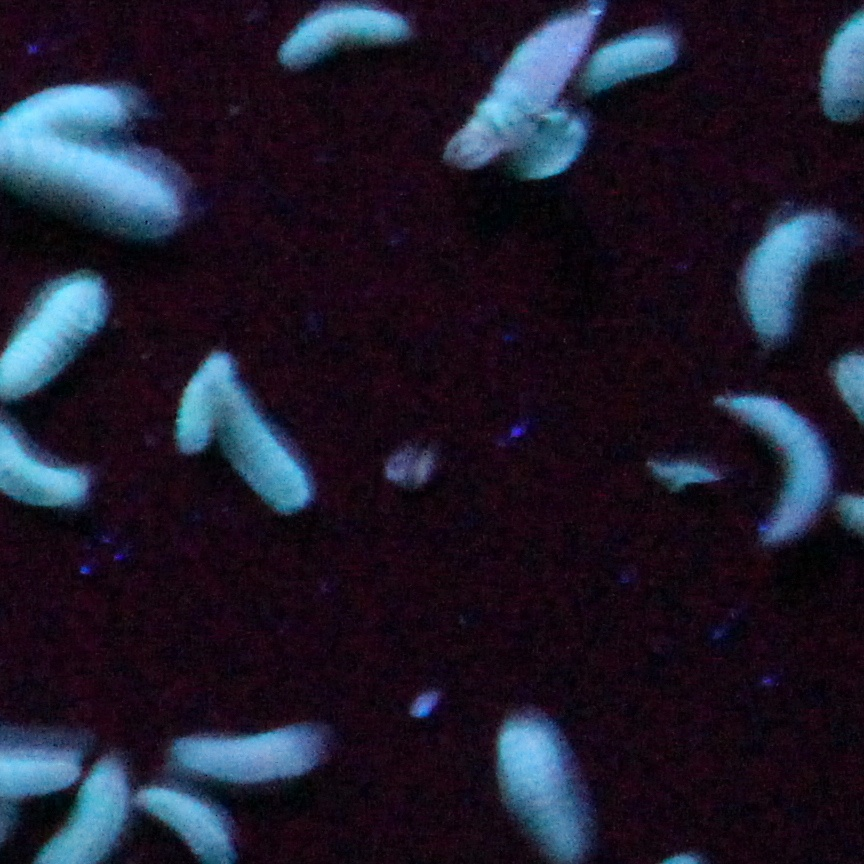larve: (447, 15, 594, 166), (731, 397, 828, 543), (215, 384, 307, 510), (744, 217, 826, 337), (177, 730, 320, 784), (281, 10, 406, 64), (570, 37, 675, 94), (178, 356, 234, 454)
